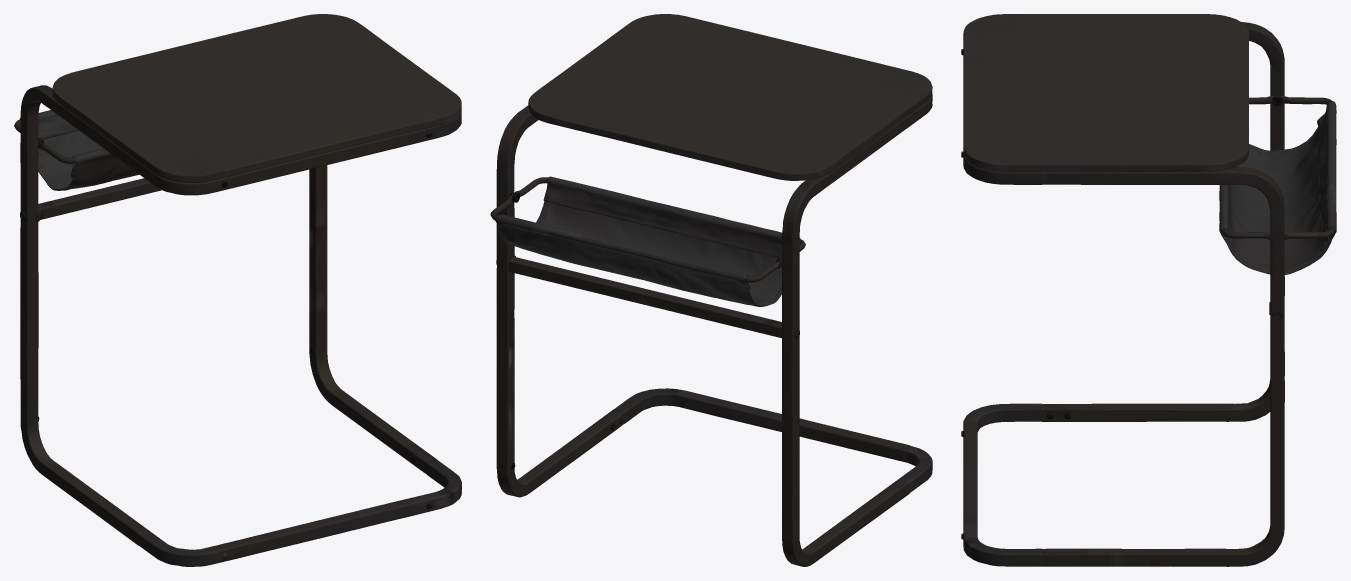
Rendered from 05 - OLSERÖD - 邊桌，碳黑色深灰色，53x50 公分 IKEA 線上購物.glb.
3 renders of one model, left to right at view 1: azimuth 30°, elevation 25°; view 2: azimuth 150°, elevation 25°; view 3: azimuth 270°, elevation 25°, orthographic. The views are drawn at different scales.
Parts seen in each view (by area): view 1: 40530917-OLSERÃƒÆ’Ã¢â‚¬â€œD001; view 2: 40530917-OLSERÃƒÆ’Ã¢â‚¬â€œD001; view 3: 40530917-OLSERÃƒÆ’Ã¢â‚¬â€œD001.
Part boxes in pixels (box(x1,y1,x2,y2)): 40530917-OLSERÃƒÆ’Ã¢â‚¬â€œD001: box(14, 14, 461, 566); 40530917-OLSERÃƒÆ’Ã¢â‚¬â€œD001: box(490, 14, 932, 566); 40530917-OLSERÃƒÆ’Ã¢â‚¬â€œD001: box(961, 14, 1336, 566).
Bounding box in the file's own units: 0.5051 × 0.6252 × 0.5259.
1 material, 1 textured.
